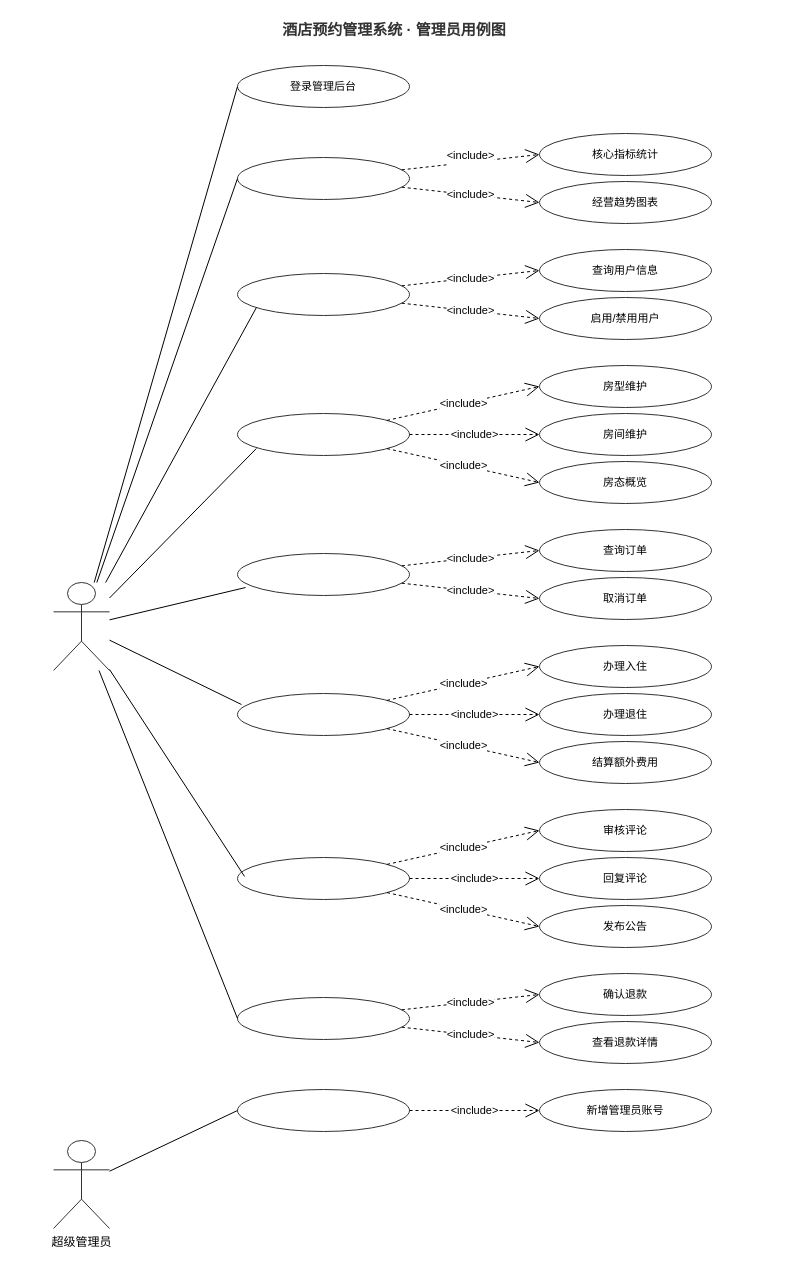
This 788x1266 diagram has some shape labels left out. The centre of each missing label's shape, as x and y in pixels:
入住退住管理: point (323, 714)
房型房间管理: point (323, 434)
支付退款管理: point (323, 1018)
数据仪表盘: point (323, 178)
用户管理: point (323, 294)
管理员: point (81, 626)
管理员账号管理: point (323, 1110)
订单管理: point (323, 574)
评论公告管理: point (323, 878)
